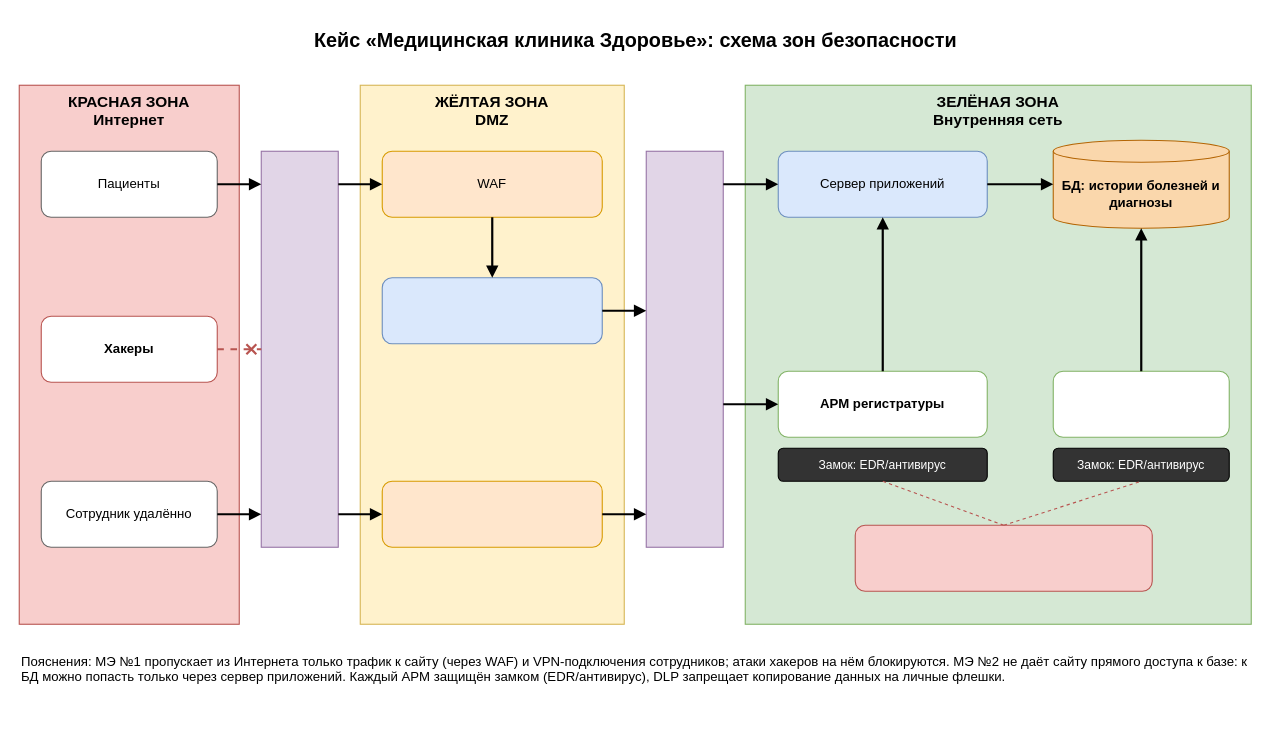
The diagram is 1271 pixels wide and 730 high, and some of its shapes have lost their labels. Each missing label, with the centre of its shape:
"DLP-система: запрет копирования на личные флешки" belongs at [1003,557].
"VPN-шлюз" belongs at [491,513].
"АРМ главного врача" belongs at [1140,403].
"МЭ №1" belongs at [299,348].
"МЭ №2" belongs at [684,348].
"Сайт с формой записи" belongs at [491,310].
